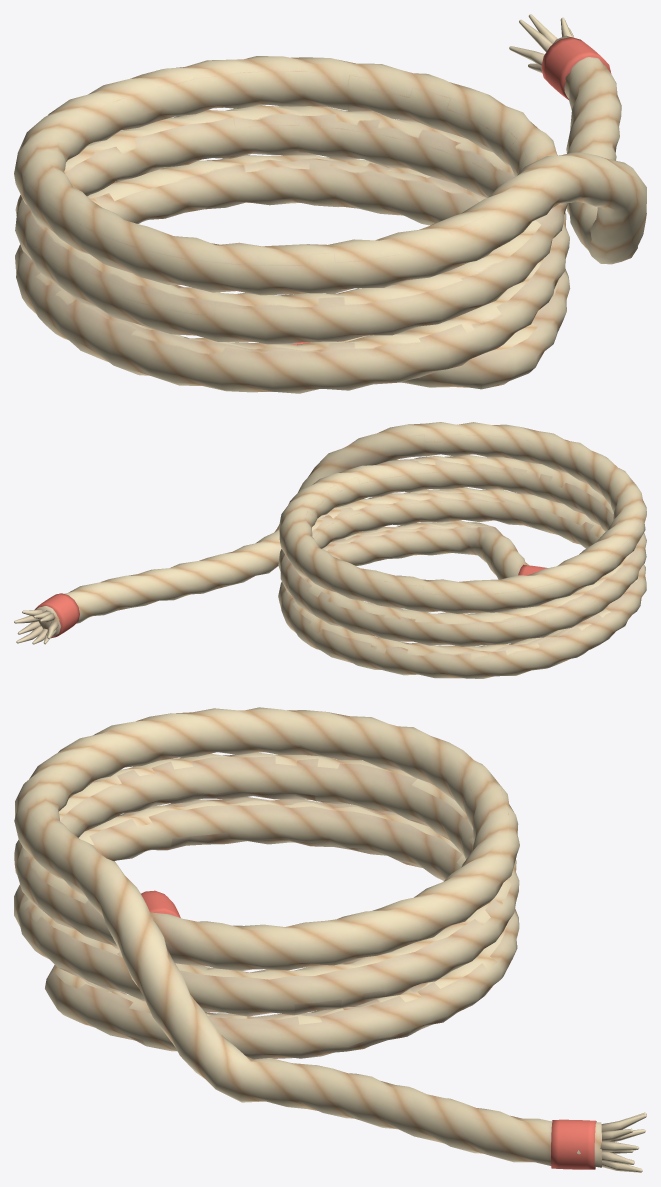
File: rope-coil.glb
3 views of the same model, one above another, from view 1: azimuth 30°, elevation 25°; view 2: azimuth 150°, elevation 25°; view 3: azimuth 270°, elevation 25° (orthographic). The views are drawn at different scales.
Parts seen in each view (by area): view 1: rope-coil_body; view 2: rope-coil_body; view 3: rope-coil_body.
Part boxes in pixels (box(x1,y1,x2,y2)): rope-coil_body: box(14, 14, 646, 393); rope-coil_body: box(14, 422, 646, 678); rope-coil_body: box(14, 707, 646, 1172).
Bounding box in the file's own units: 0.5167 × 0.1355 × 0.436.
1 material, 1 textured.
